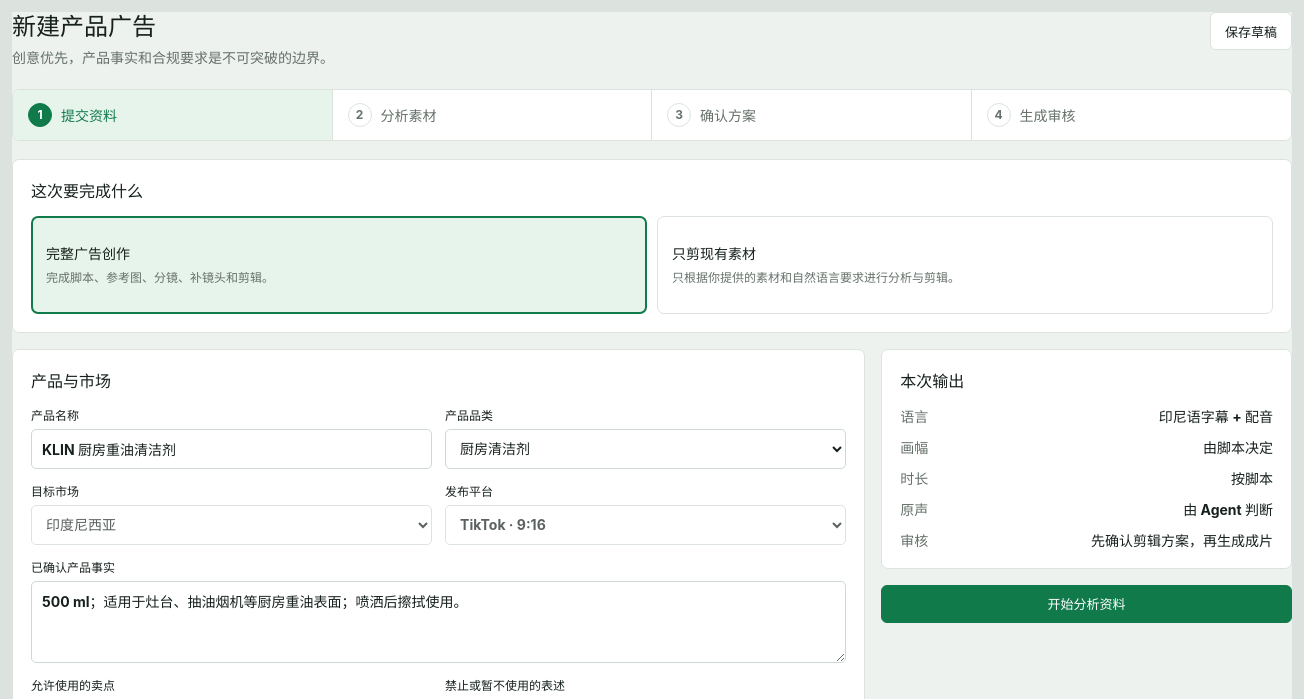
CreateTaskPage › prevents duplicate submissions while task creation is running
Click the button "开始分析资料" at point(1087, 604), box [881,585,1292,623]
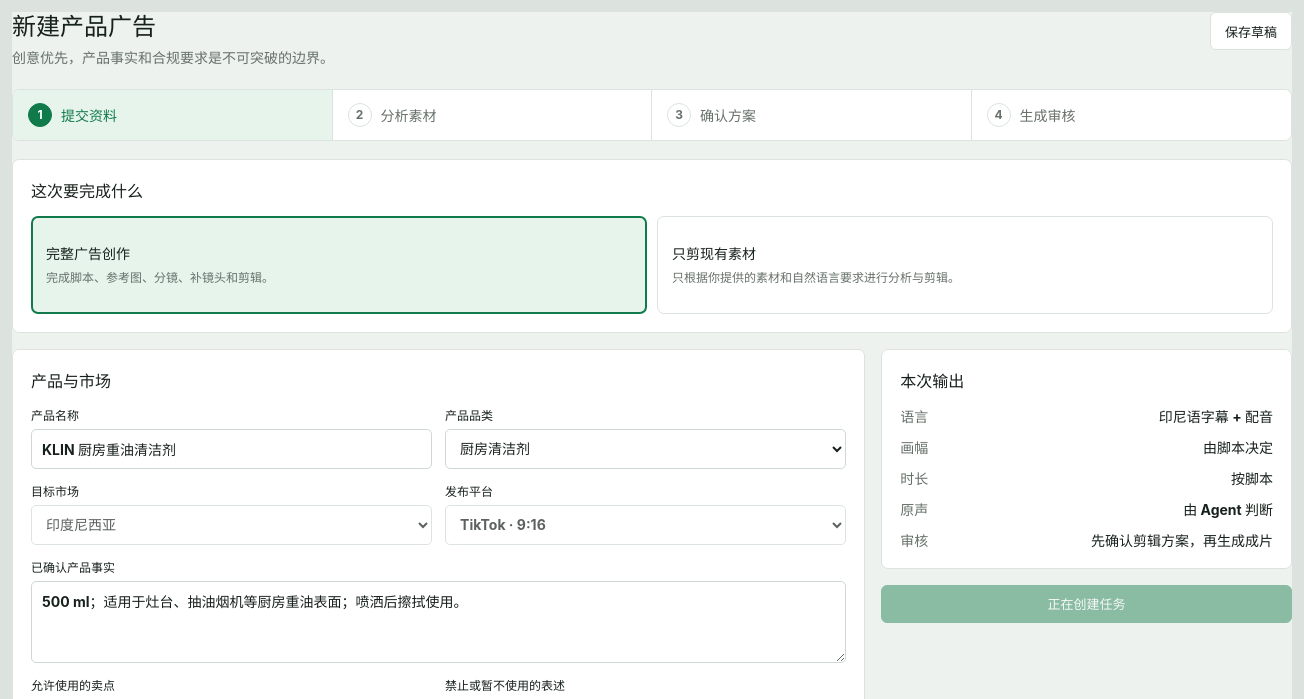
Now the button "正在创建任务" is disabled
Click the button "正在创建任务" at point(1087, 604), box [881,585,1292,623]
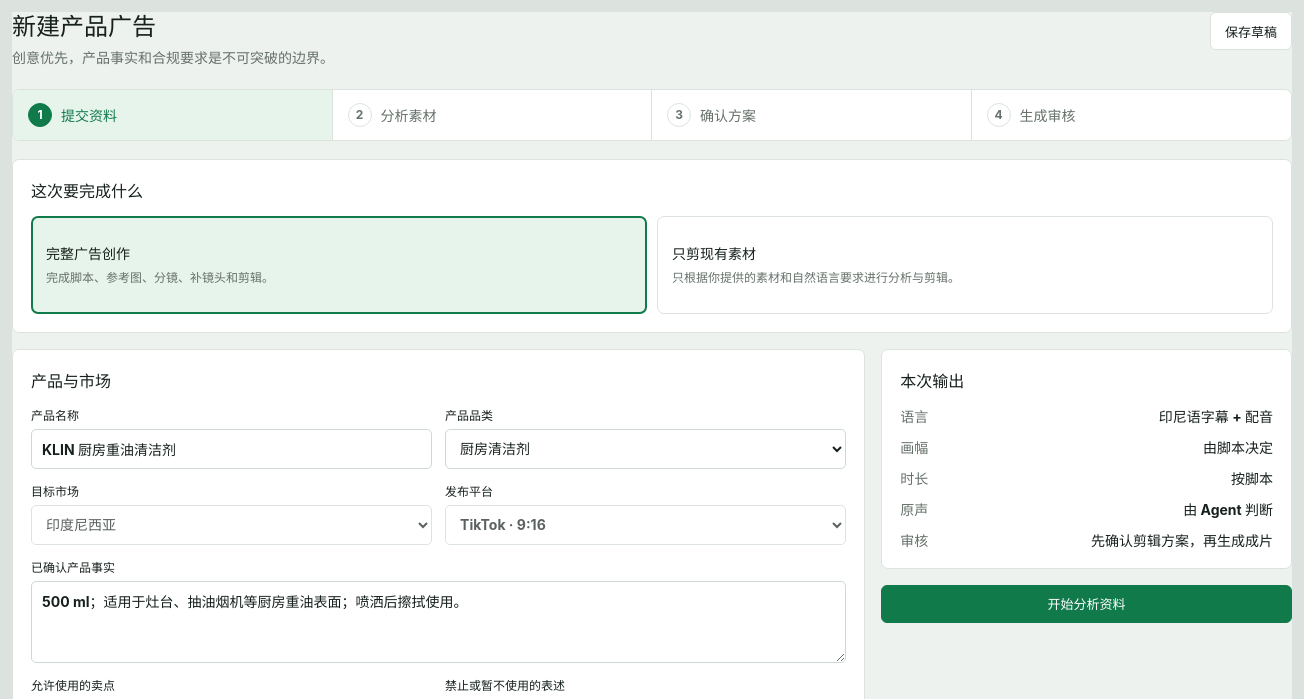
Now the button "开始分析资料" is enabled, box [881,585,1292,623]
